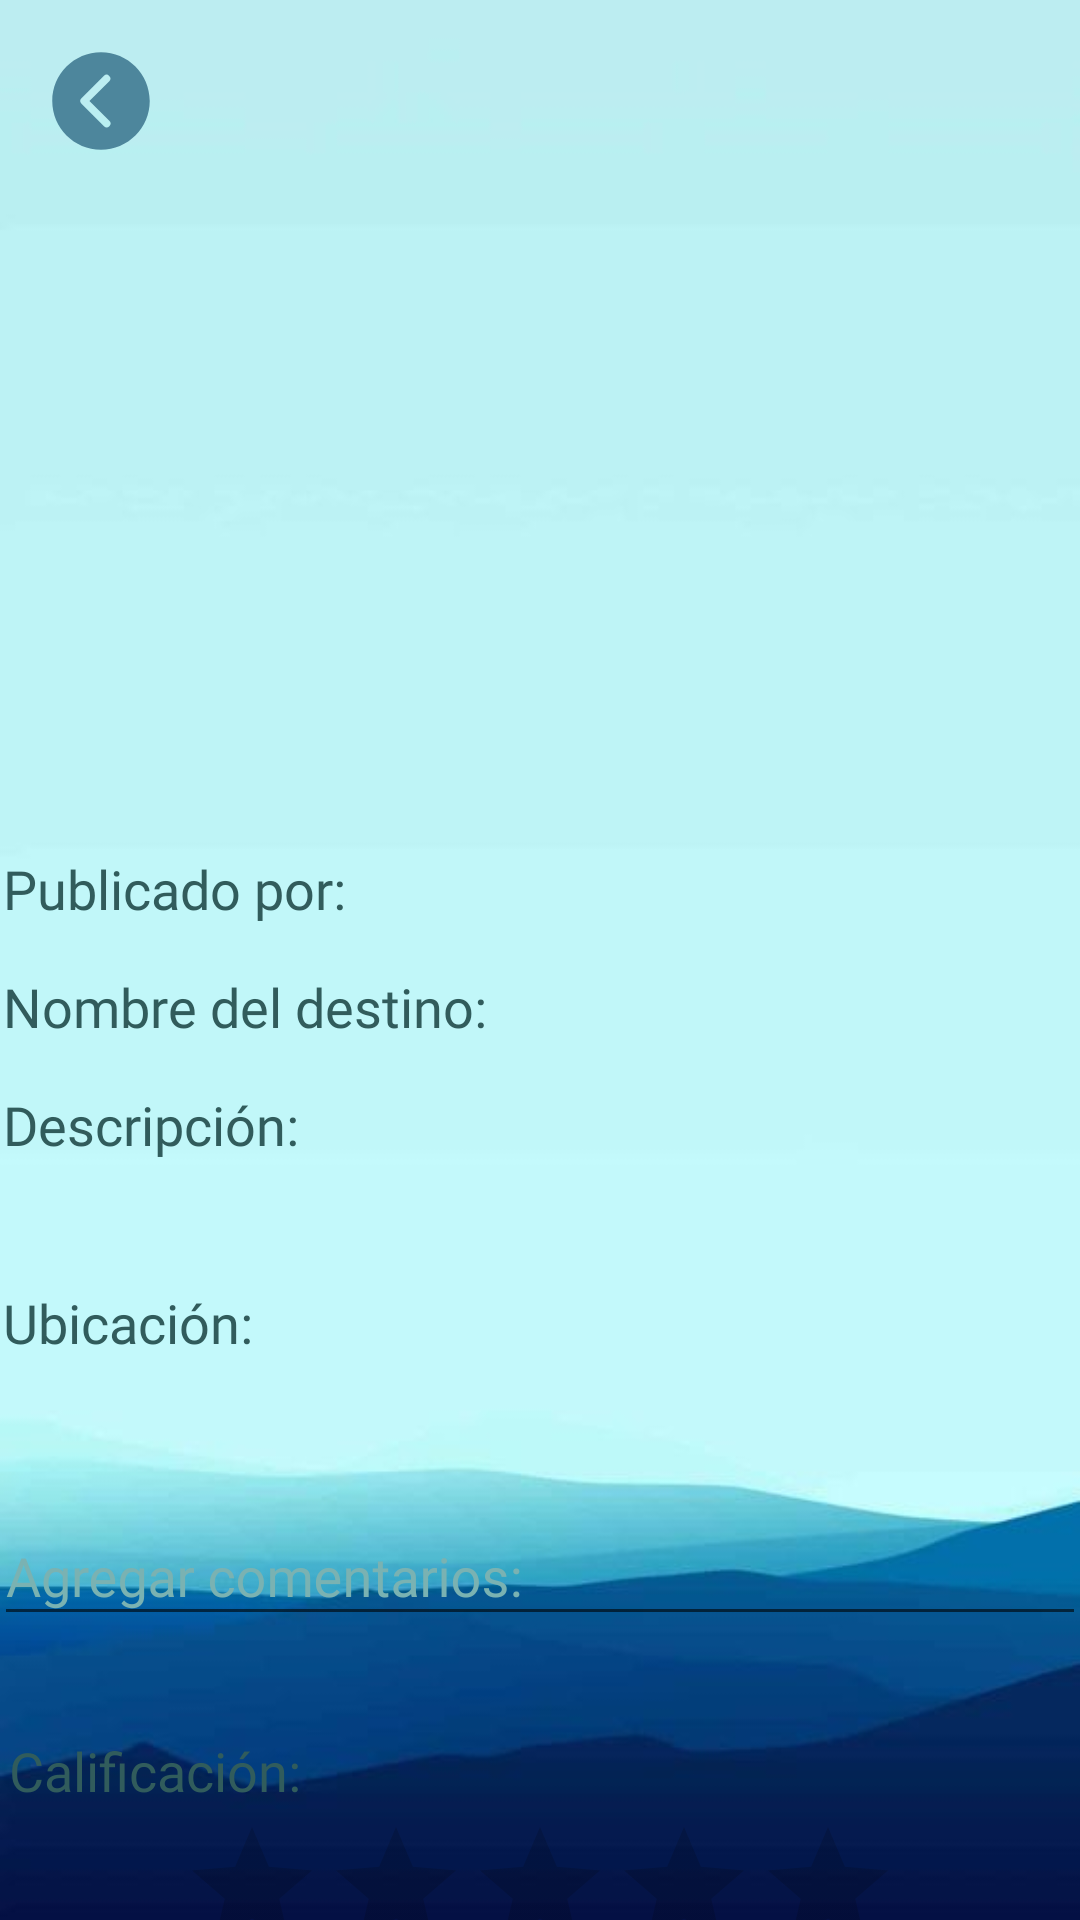

Point at icon controls on the screen. Image size 1080px x 1920px, points as point (x, y).
back: point (101, 101)
